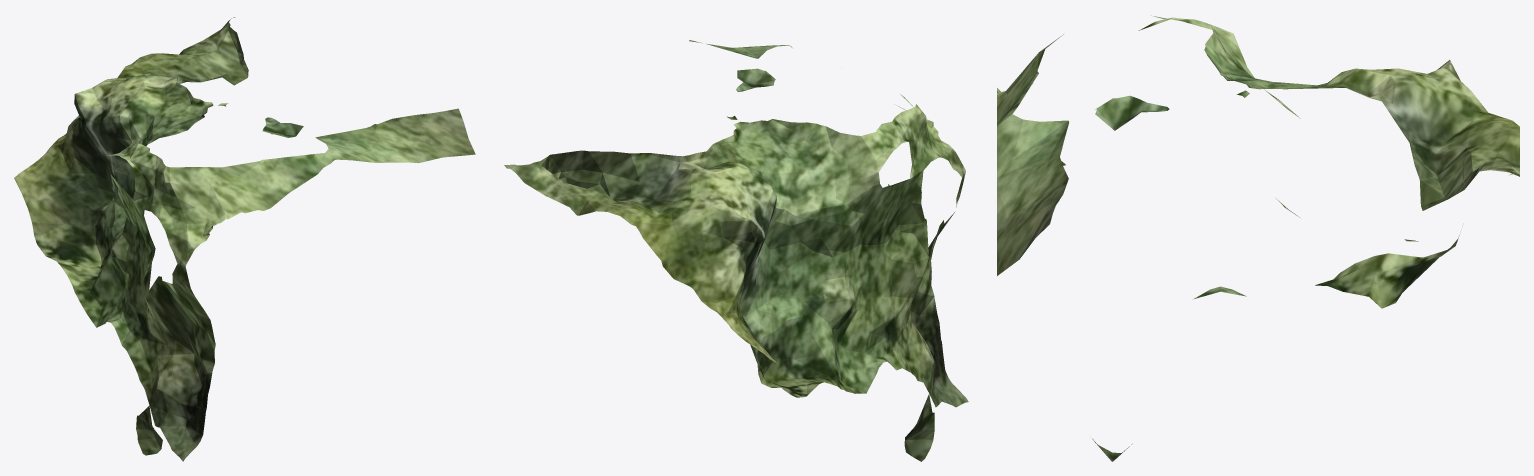
3 renders of one model, left to right at view 1: azimuth 30°, elevation 25°; view 2: azimuth 150°, elevation 25°; view 3: azimuth 270°, elevation 25°, orthographic. The views are drawn at different scales.
Size of the model in its own units: 5.9 by 5.61 by 5.9.
3 materials, 3 textured.
